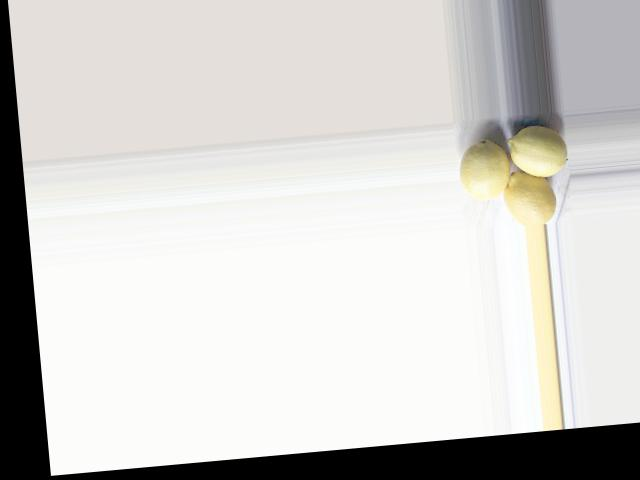lemon: (456, 134, 508, 202)
